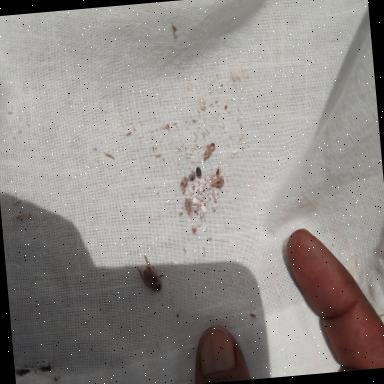pbw: (202, 142, 217, 162), (180, 175, 191, 194), (208, 176, 222, 187)
